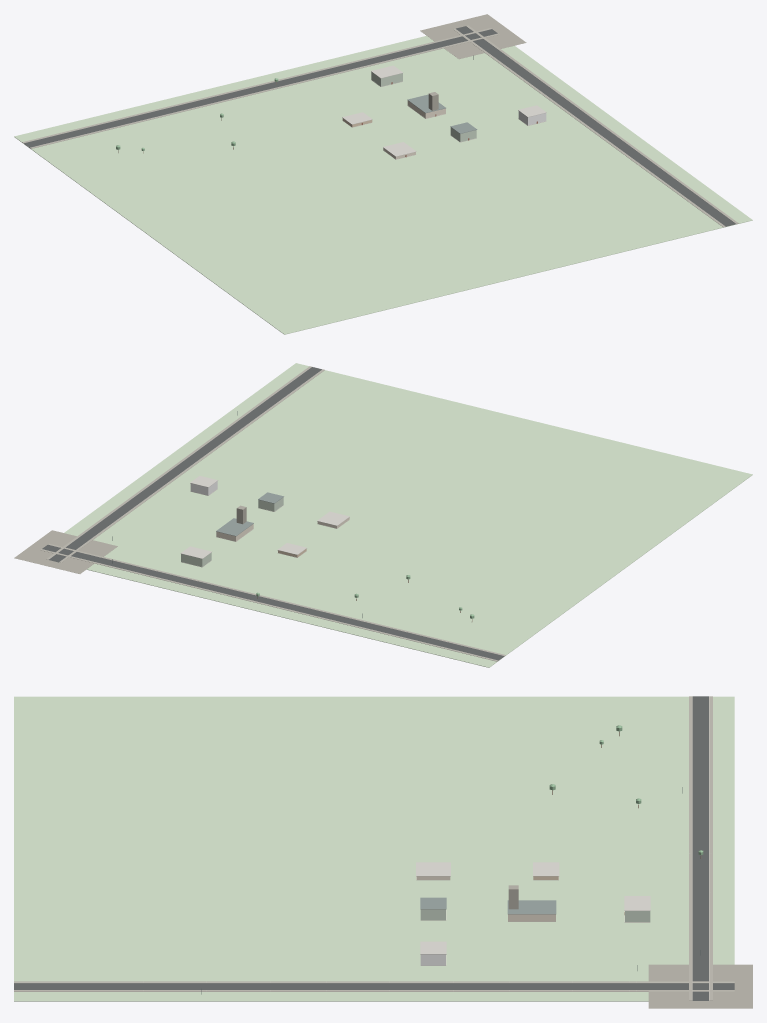
Rendered from chunk_5_2_low.glb.
The picture shows the model from 3 angles, top to bottom: view 1: azimuth 30°, elevation 25°; view 2: azimuth 150°, elevation 25°; view 3: azimuth 270°, elevation 25°; orthographic projection. The views are drawn at different scales.
Parts seen in each view (by area): view 1: city_grass, city_world_asphalt, city_world_sidewalk, city_village_stone, city_curb, city_roof_tile; view 2: city_grass, city_world_asphalt, city_world_sidewalk, city_village_stone, city_curb, city_roof_tile, city_roof_slate; view 3: city_grass, city_world_asphalt, city_world_sidewalk, city_village_stone, city_curb, city_roof_tile, city_roof_slate, city_wall_sage, city_wall_cream.
Part boxes in pixels (left/top/right/bottom): city_grass: left=14, top=36, right=752, bottom=334; city_world_asphalt: left=24, top=26, right=735, bottom=226; city_world_sidewalk: left=22, top=25, right=738, bottom=227; city_village_stone: left=420, top=14, right=526, bottom=110; city_curb: left=23, top=26, right=736, bottom=226; city_roof_tile: left=342, top=65, right=546, bottom=156; city_grass: left=64, top=363, right=752, bottom=667; city_world_asphalt: left=42, top=367, right=504, bottom=660; city_world_sidewalk: left=40, top=366, right=505, bottom=661; city_village_stone: left=14, top=505, right=246, bottom=573; city_curb: left=43, top=367, right=503, bottom=660; city_roof_tile: left=180, top=476, right=349, bottom=558; city_roof_slate: left=216, top=492, right=283, bottom=536; city_grass: left=14, top=696, right=734, bottom=1001; city_world_asphalt: left=14, top=696, right=734, bottom=1000; city_world_sidewalk: left=14, top=696, right=734, bottom=1000; city_village_stone: left=508, top=885, right=752, bottom=1008; city_curb: left=14, top=696, right=734, bottom=1000; city_roof_tile: left=416, top=862, right=650, bottom=954; city_roof_slate: left=420, top=897, right=556, bottom=914; city_wall_sage: left=420, top=909, right=650, bottom=921; city_wall_cream: left=416, top=876, right=555, bottom=921.
Size of the model in its own units: 525 by 22.42 by 525.
